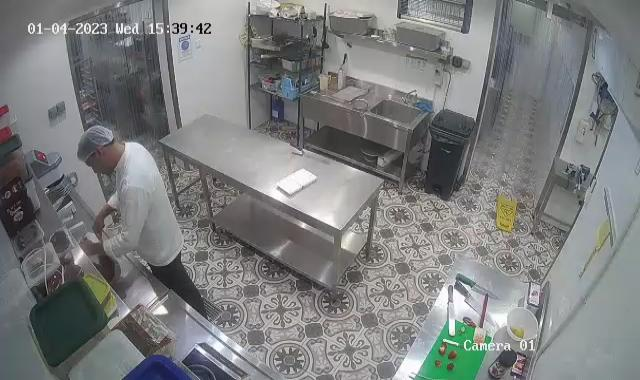hairnet: (78, 125, 117, 162)
